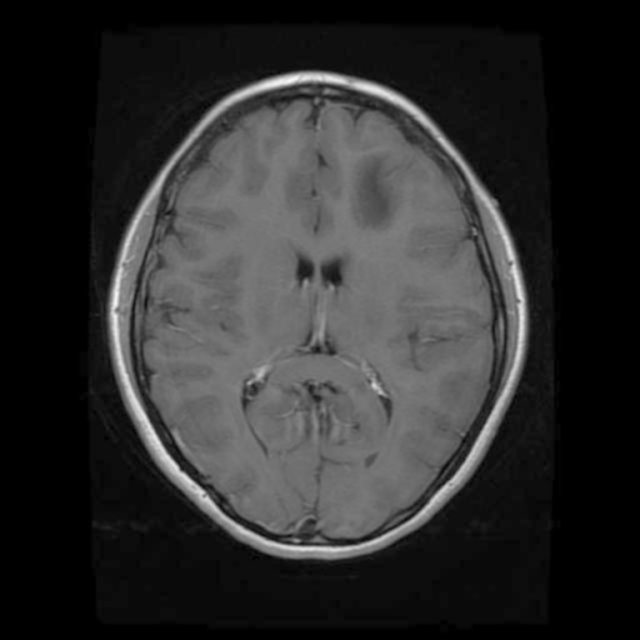pituitary tumor: (249, 360, 385, 450)
